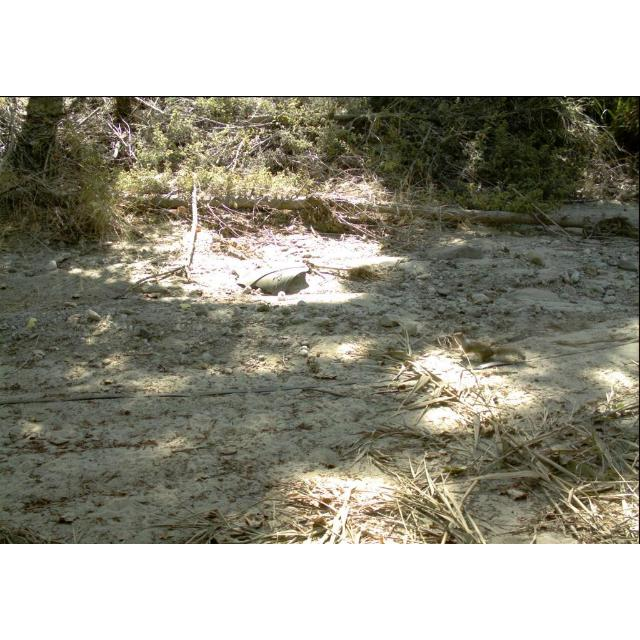animals: (456, 338, 530, 377)
